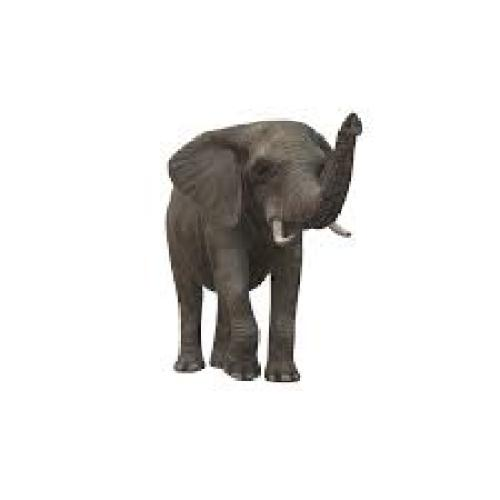asian_elephant-endangered: (164, 115, 366, 382)
